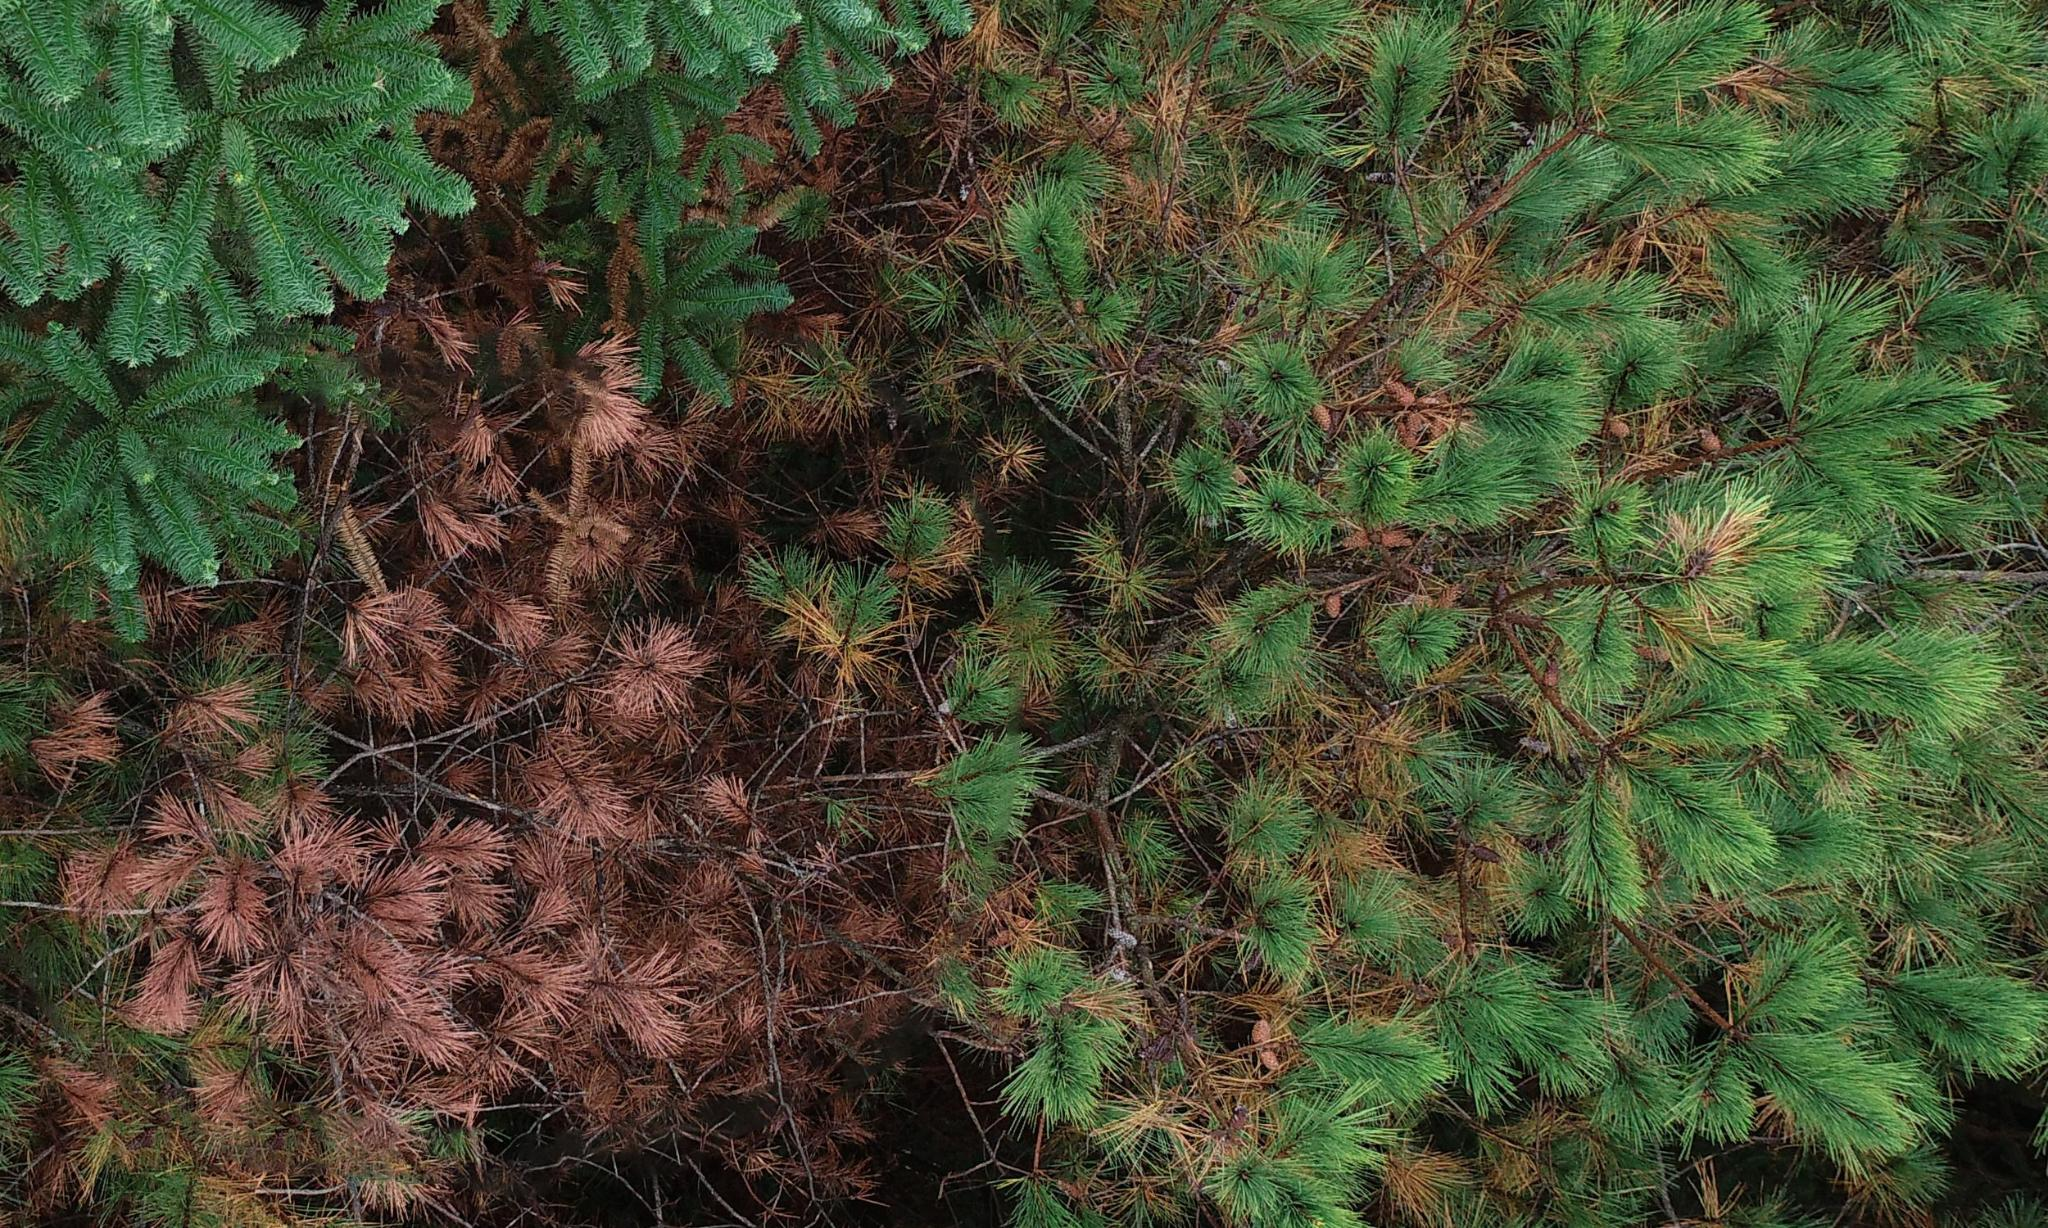heavy: (51, 153, 843, 1209)
light: (933, 18, 1759, 1177)
